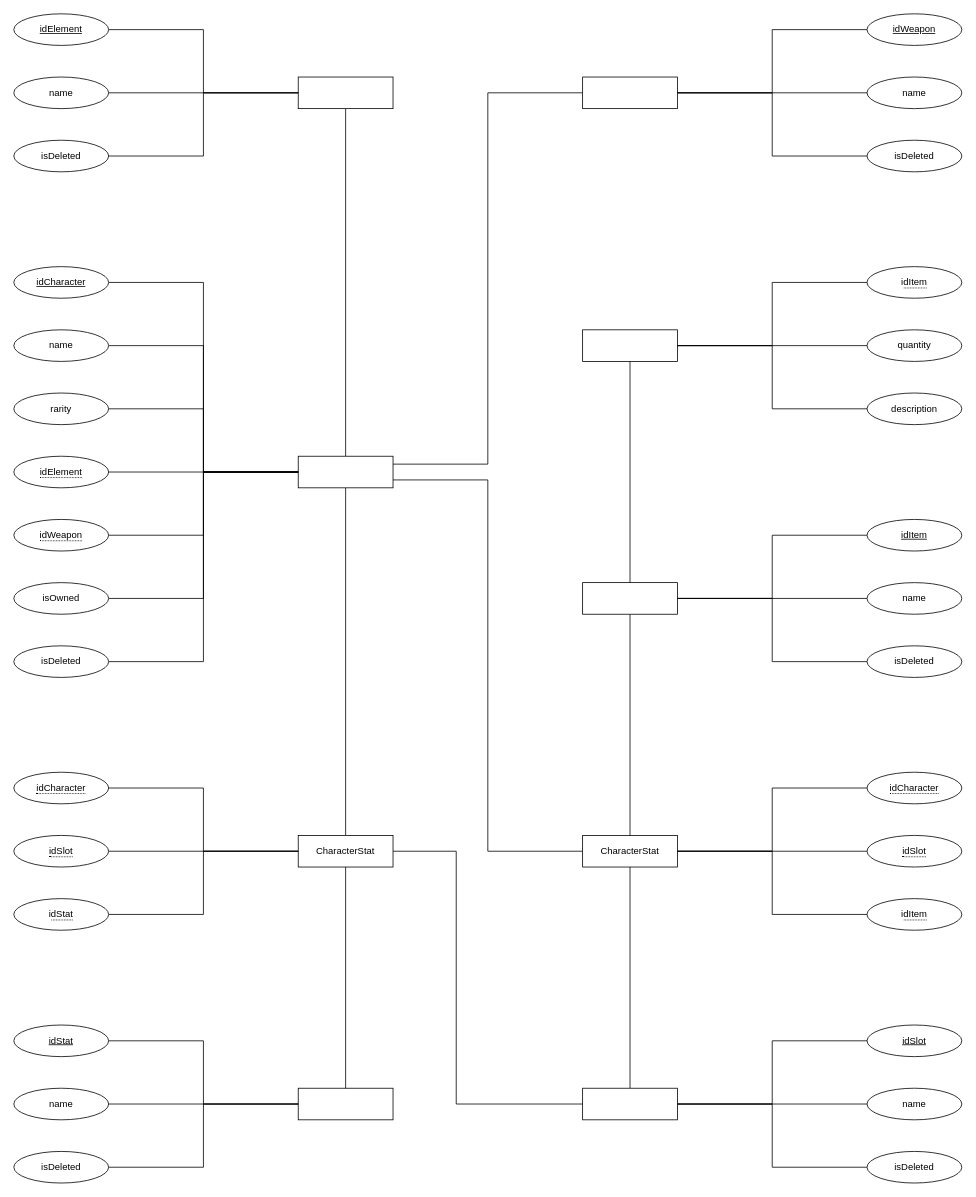
Image size: 976x1197. Some labels were removed from this diagram. Here are the shapes that lost their labels. From the top down, the centre of each, then its label:
the point at 345,92: Element
the point at 629,92: Weapon
the point at 629,345: ItemsSet
the point at 345,471: Character
the point at 629,598: Item
the point at 345,1103: Stat
the point at 629,1103: Slot
